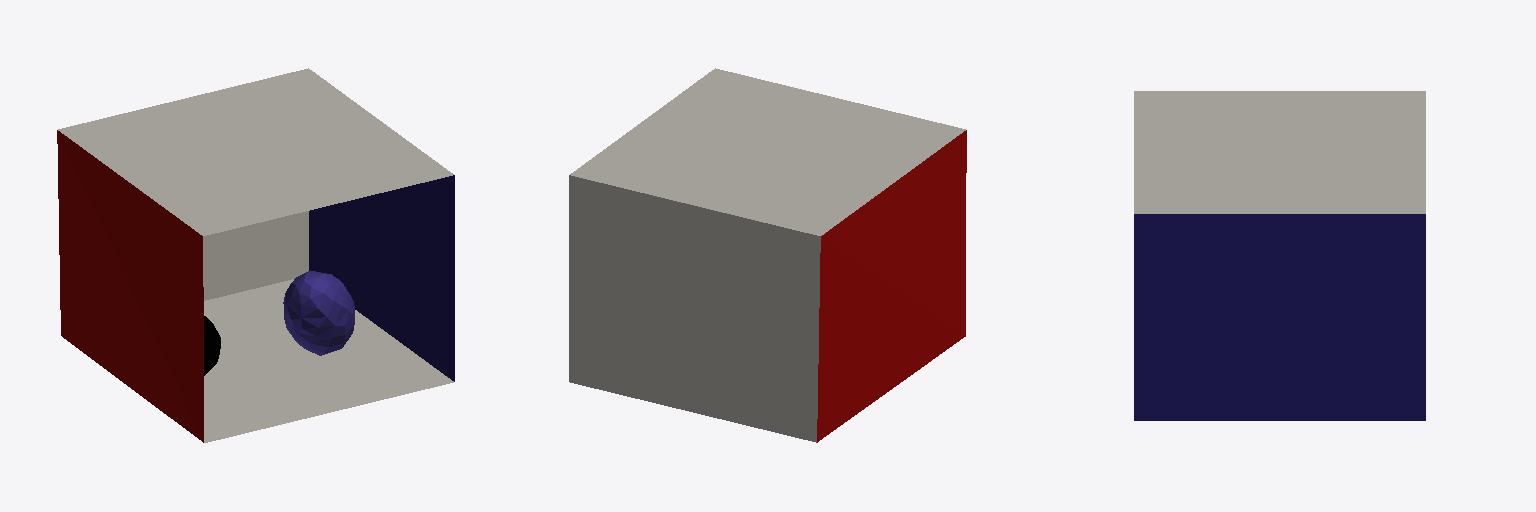
File: CornellBox-Ellipsoid-477.obj
The picture shows the model from 3 angles: view 1: azimuth 30°, elevation 25°; view 2: azimuth 150°, elevation 25°; view 3: azimuth 270°, elevation 25°; orthographic projection.
Visible parts, largest first — view 1: ceiling, leftWall, floor, rightWall, backWall, leftSphere, rightSphere; view 2: backWall, ceiling, leftWall; view 3: rightWall, ceiling.
Part boxes in pixels (bbox=[...]): ceiling: bbox=[58, 68, 453, 235]; leftWall: bbox=[57, 130, 203, 442]; floor: bbox=[204, 279, 453, 442]; rightWall: bbox=[309, 175, 454, 381]; backWall: bbox=[203, 211, 308, 300]; leftSphere: bbox=[283, 271, 354, 355]; rightSphere: bbox=[204, 316, 220, 375]; backWall: bbox=[569, 175, 820, 442]; ceiling: bbox=[570, 68, 965, 235]; leftWall: bbox=[817, 130, 966, 442]; rightWall: bbox=[1134, 214, 1425, 420]; ceiling: bbox=[1134, 91, 1425, 213].
Bounding box in the file's own units: 2.02 × 1.59 × 2.03.